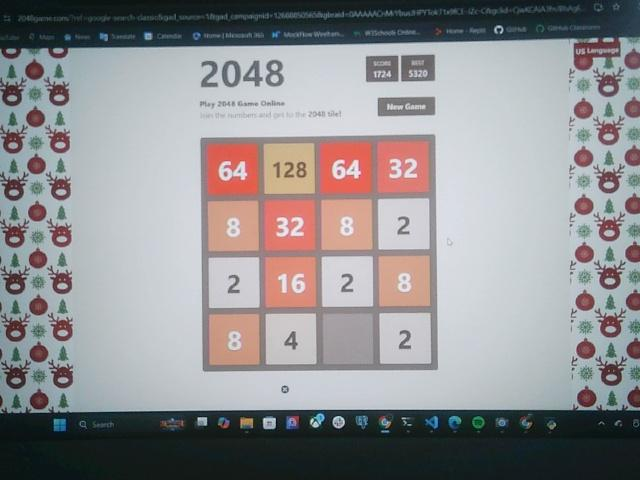board: (201, 137, 437, 370)
tile: (322, 199, 374, 251), (207, 315, 261, 365), (207, 143, 259, 194), (379, 199, 430, 251), (266, 257, 317, 309), (380, 314, 433, 363), (264, 144, 315, 194), (209, 201, 259, 252), (265, 201, 316, 251), (208, 257, 259, 307), (323, 256, 374, 306), (380, 257, 431, 307), (378, 142, 429, 191), (321, 145, 373, 193), (267, 314, 316, 364)
